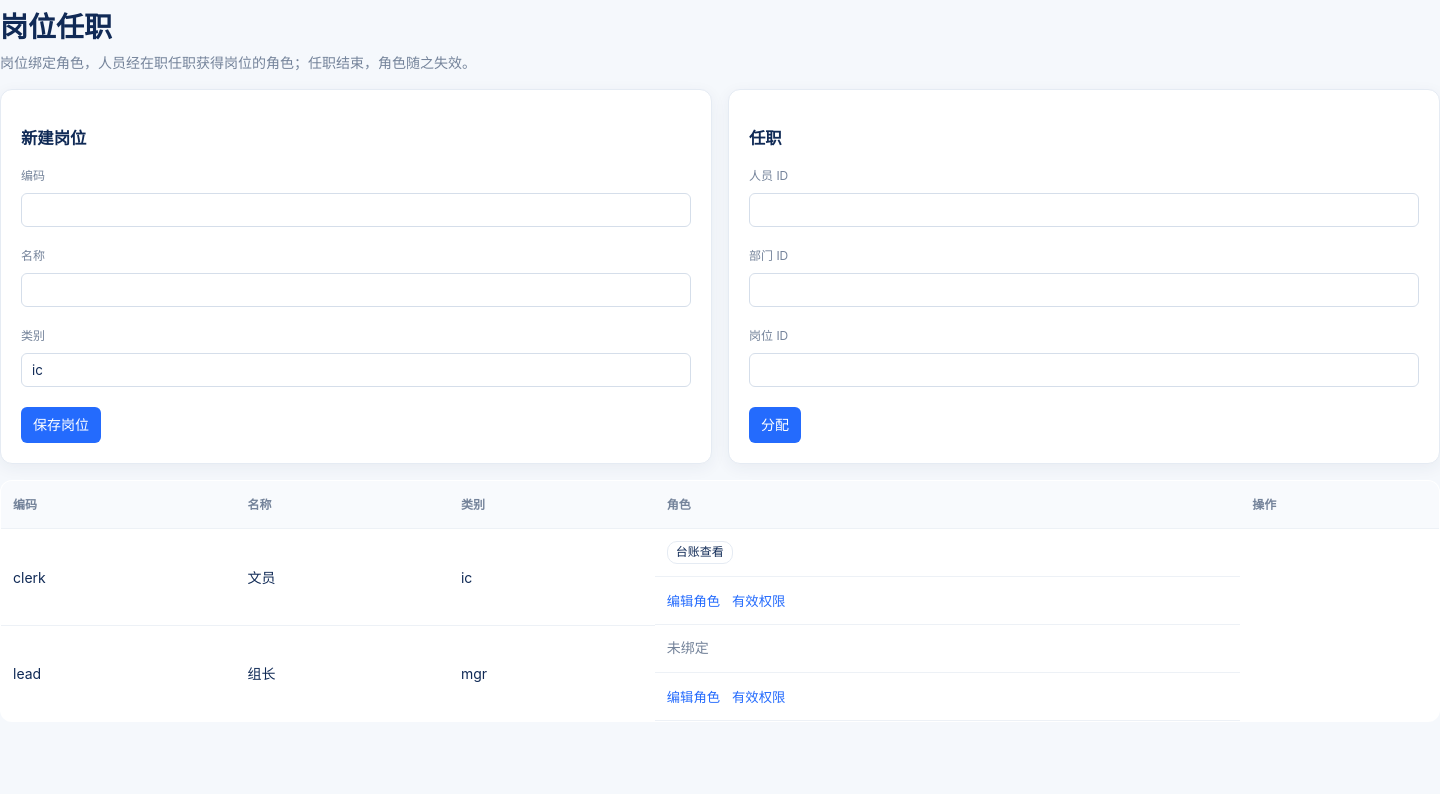
Test: PLA2 position ↔ role binding › keeps the editor open with a clear message when saving is refused
Click the button "编辑角色" below "mgr" at (693, 697), box x1=667 y1=685 x2=720 y2=708
(page scrolled)
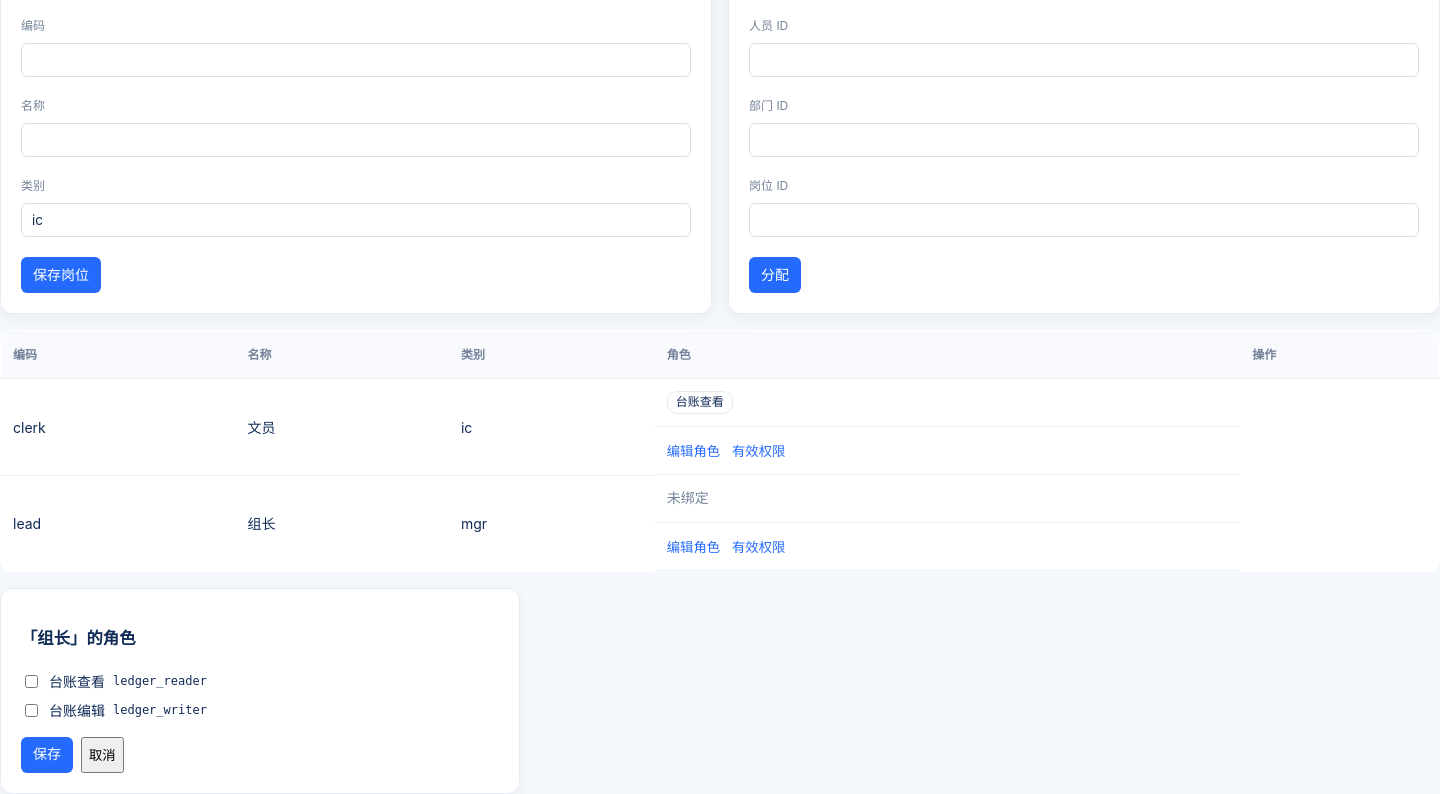
Submit the form with test id "role-editor", box x1=0 y1=588 x2=520 y2=793
(page scrolled)
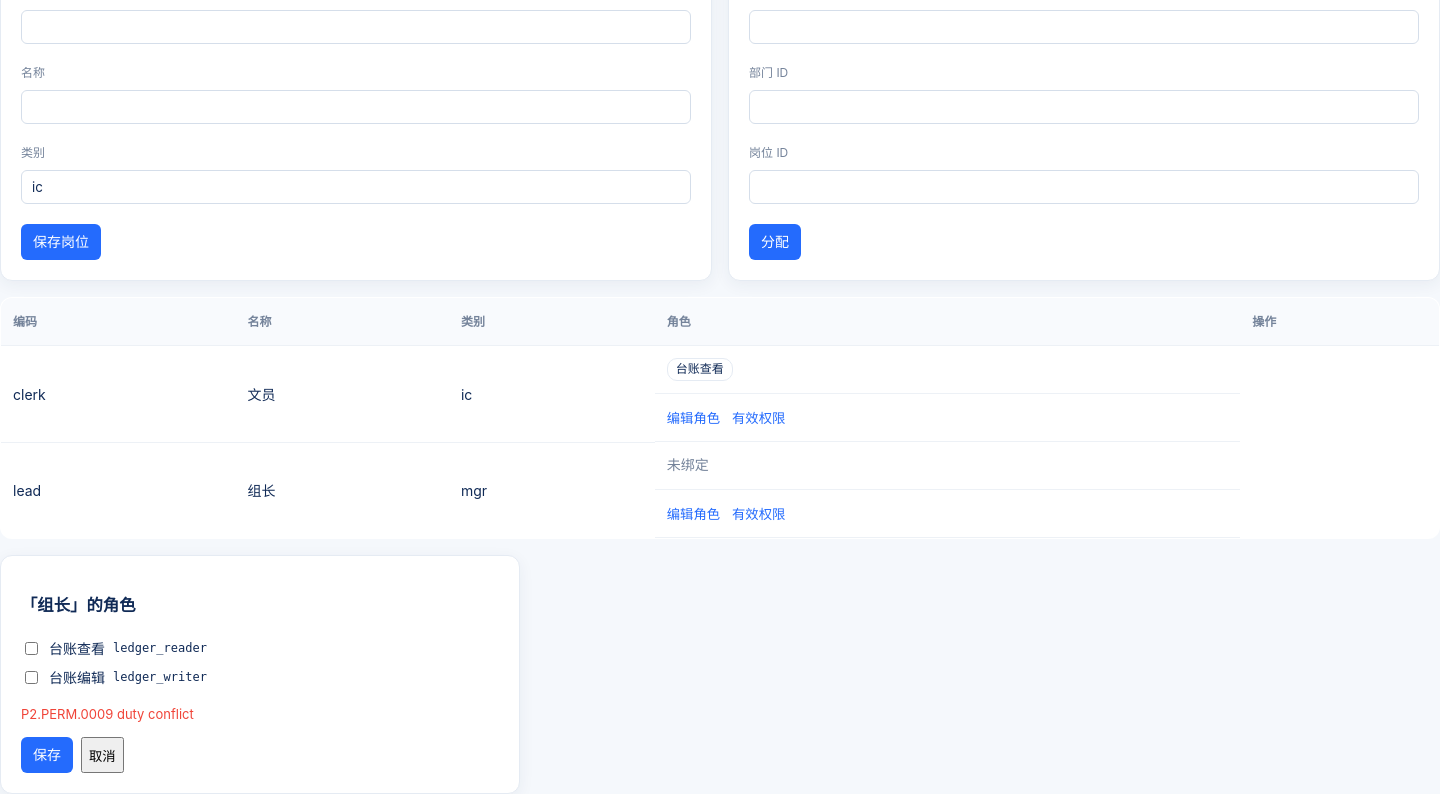
Expected: the form with test id "role-editor" shows "duty conflict", x1=21 y1=706 x2=194 y2=722
Submit the form with test id "role-editor", box x1=0 y1=555 x2=520 y2=793
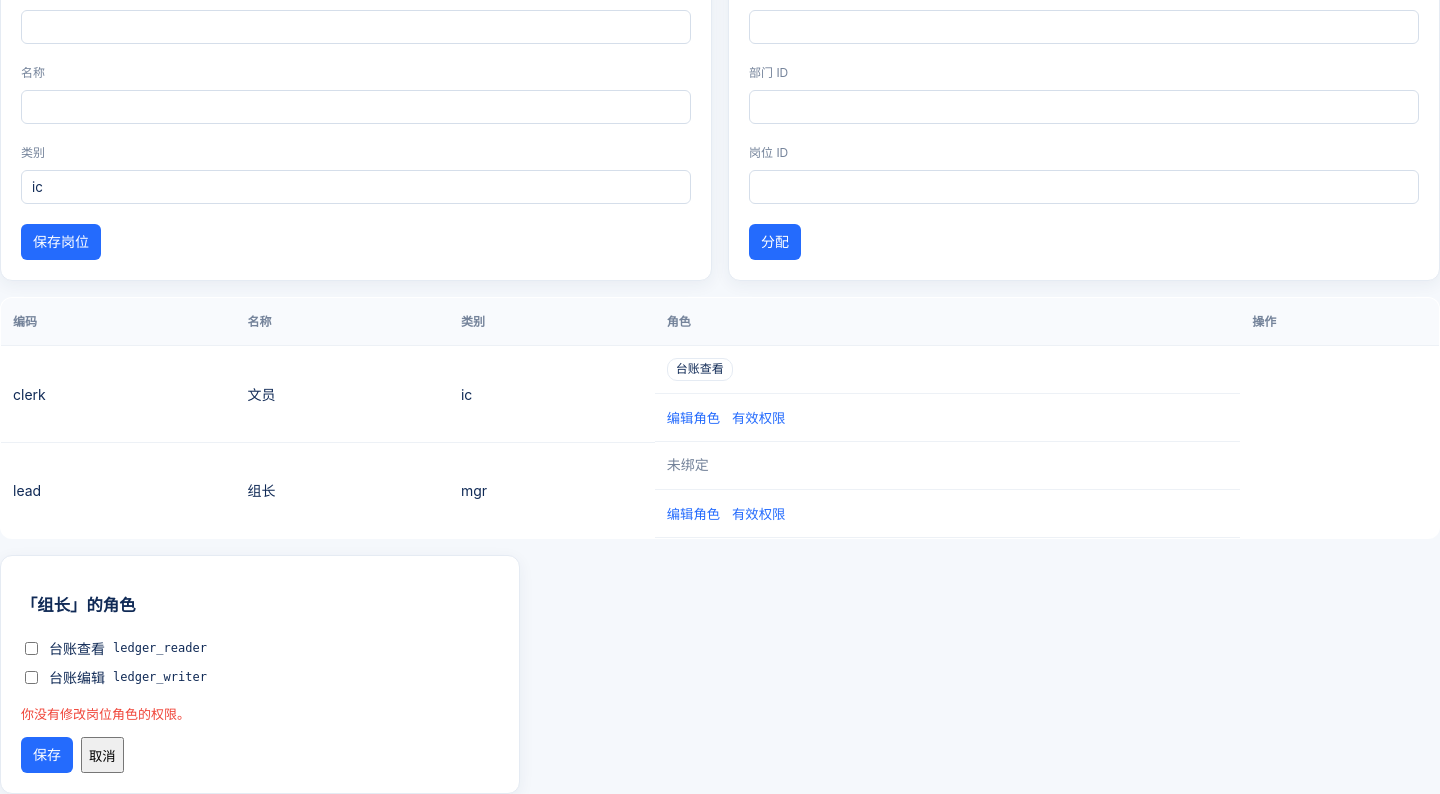
Expected: the form with test id "role-editor" shows "你没有修改岗位角色的权限", x1=21 y1=706 x2=190 y2=722
